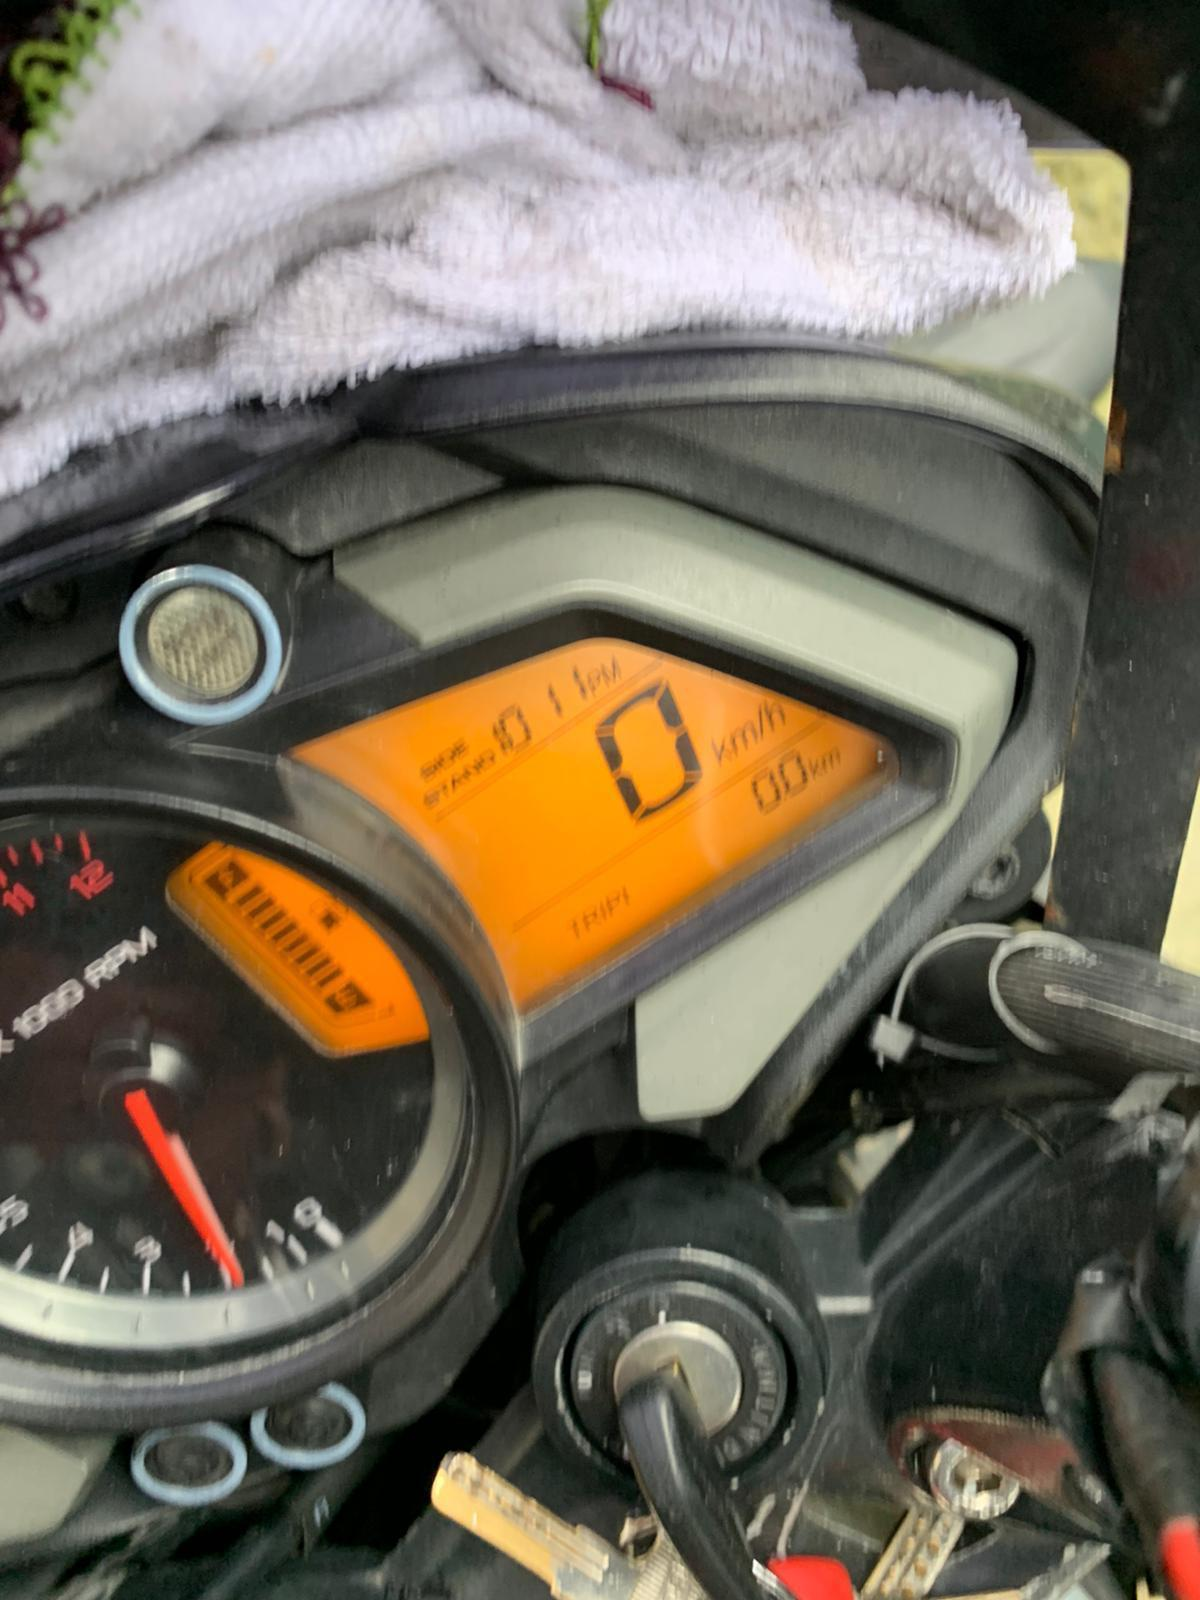0: (592, 679, 702, 826), (498, 704, 531, 752), (749, 769, 780, 814), (778, 750, 805, 797)
1: (545, 682, 563, 719), (571, 665, 587, 700), (492, 722, 505, 752), (621, 882, 633, 906)
X: (727, 719, 758, 757), (708, 734, 734, 766), (763, 698, 787, 731), (599, 655, 620, 687), (821, 746, 841, 775), (755, 703, 765, 741), (565, 920, 582, 940), (582, 912, 600, 931), (807, 760, 822, 781), (608, 894, 621, 913), (453, 738, 469, 753), (597, 900, 608, 921)
odometer: (160, 632, 905, 1063)
